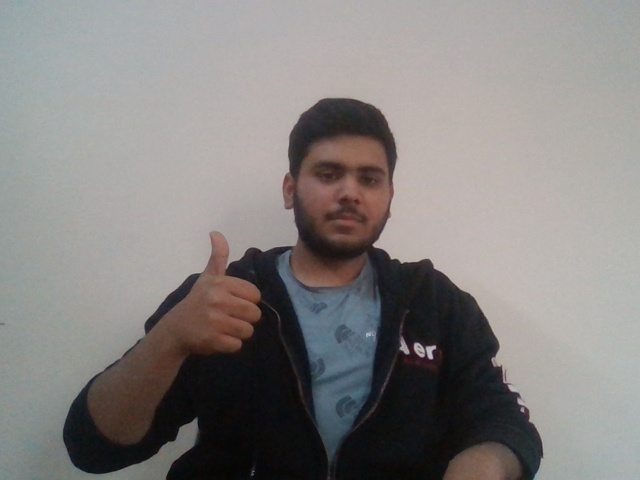Yes: (160, 228, 266, 357)
